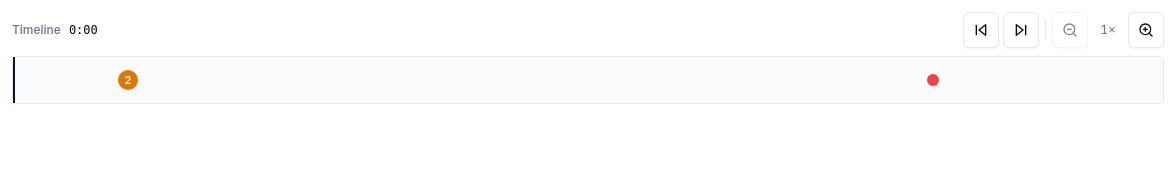
Scenario: Timeline › previews the hovered marker
Step 1. Hover over the button named "Wrong way at 0:10 and 1 more" → (128, 80), box 118,70 -> 138,90
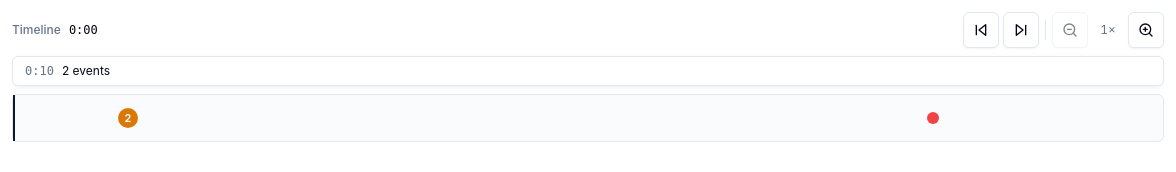
Expected: the text "2 events" is shown, 62,63 -> 110,78
